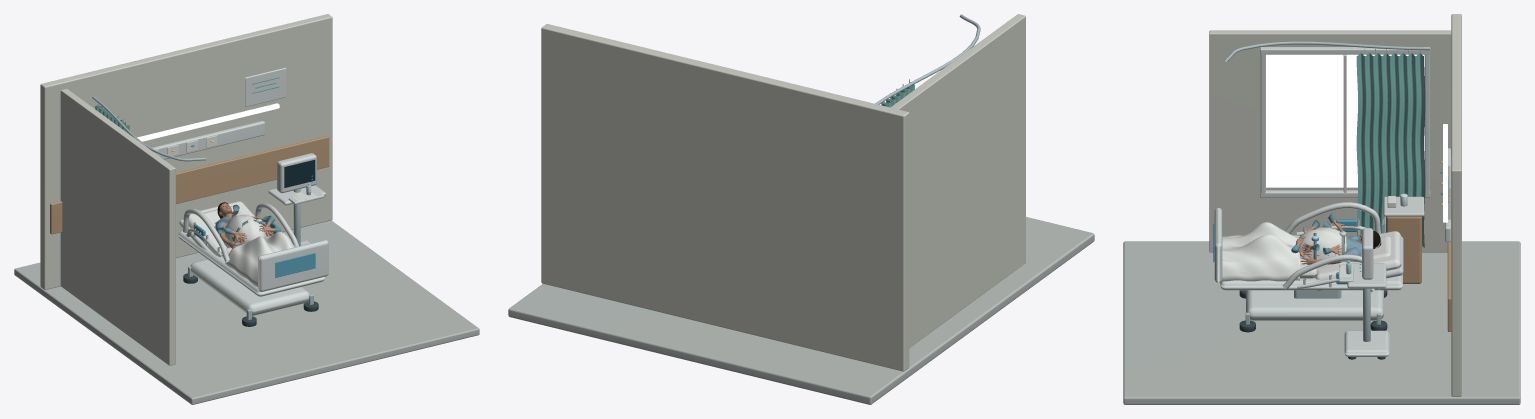
File: palpation-room.glb
3 views of the same model, side by side, from view 1: azimuth 30°, elevation 25°; view 2: azimuth 150°, elevation 25°; view 3: azimuth 270°, elevation 25° (orthographic). The views are drawn at different scales.
Visible parts, largest first — view 1: Palpation_static_Linen_warm_wall, Palpation_static_Matte_warm_grey_floor, Palpation_static_Warm_hospital_enamel, Palpation_static_Ash_wood_laminate, Pelvis_cover, Palpation_static_Clean_warm_cotton, Palpation_static_Bed_frame_satin_aluminum, Palpation_static_Warm_headlight_glow, Palpation_static_Clinical_blue_accent, Privacy_cover, Monitor_screen; view 2: Palpation_static_Linen_warm_wall, Palpation_static_Matte_warm_grey_floor, Palpation_static_Bed_frame_satin_aluminum; view 3: Palpation_static_Matte_warm_grey_floor, Palpation_static_Linen_warm_wall, Palpation_static_Warm_hospital_enamel, Palpation_static_Soft_daylight_glazing, Curtain_dynamic, Pelvis_cover, Palpation_static_Ash_wood_laminate, Palpation_static_Bed_frame_satin_aluminum, Palpation_static_Clean_warm_cotton, Privacy_cover, Palpation_static_Warm_headlight_glow, Palpation_static_Caster_rubber_and_accents.
Part boxes in pixels (bbox=[...]): Palpation_static_Linen_warm_wall: bbox=[40, 14, 332, 365]; Palpation_static_Matte_warm_grey_floor: bbox=[14, 220, 479, 404]; Palpation_static_Warm_hospital_enamel: bbox=[98, 67, 328, 315]; Palpation_static_Ash_wood_laminate: bbox=[50, 136, 329, 234]; Pelvis_cover: bbox=[225, 231, 295, 287]; Palpation_static_Clean_warm_cotton: bbox=[154, 135, 317, 277]; Palpation_static_Bed_frame_satin_aluminum: bbox=[92, 96, 313, 319]; Palpation_static_Warm_headlight_glow: bbox=[137, 103, 279, 141]; Palpation_static_Clinical_blue_accent: bbox=[191, 145, 315, 277]; Privacy_cover: bbox=[223, 214, 266, 247]; Monitor_screen: bbox=[284, 159, 315, 187]; Palpation_static_Linen_warm_wall: bbox=[541, 14, 1025, 371]; Palpation_static_Matte_warm_grey_floor: bbox=[508, 217, 1094, 404]; Palpation_static_Bed_frame_satin_aluminum: bbox=[875, 14, 980, 104]; Palpation_static_Matte_warm_grey_floor: bbox=[1123, 241, 1520, 404]; Palpation_static_Linen_warm_wall: bbox=[1209, 14, 1461, 396]; Palpation_static_Warm_hospital_enamel: bbox=[1214, 47, 1450, 356]; Palpation_static_Soft_daylight_glazing: bbox=[1266, 54, 1424, 187]; Curtain_dynamic: bbox=[1356, 53, 1425, 247]; Pelvis_cover: bbox=[1222, 222, 1299, 281]; Palpation_static_Ash_wood_laminate: bbox=[1386, 157, 1451, 331]; Palpation_static_Bed_frame_satin_aluminum: bbox=[1225, 41, 1429, 341]; Palpation_static_Clean_warm_cotton: bbox=[1239, 196, 1401, 280]; Privacy_cover: bbox=[1295, 227, 1352, 270]; Palpation_static_Warm_headlight_glow: bbox=[1443, 124, 1447, 222]; Palpation_static_Caster_rubber_and_accents: bbox=[1239, 290, 1387, 359].
Size of the model in its own units: 4.3 by 3.01 by 4.6.
Materials: 28 (2 with a texture image).
